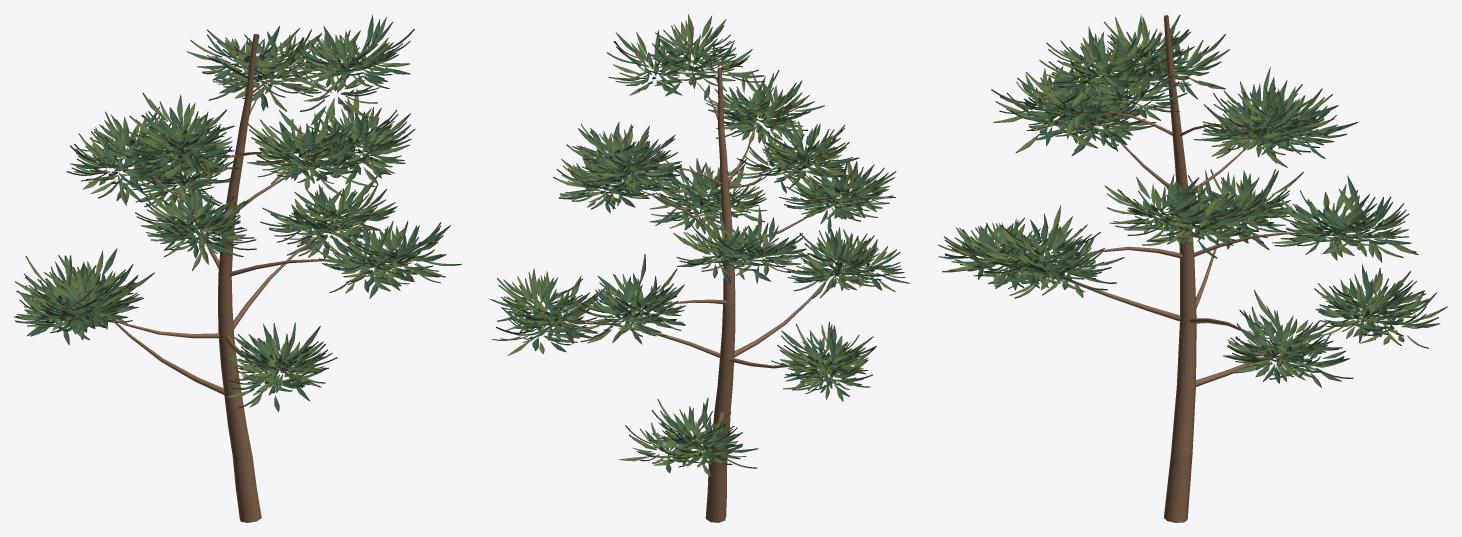
Rendered from Pin_Laricio_2_High.fbx.
3 renders of one model, left to right at view 1: azimuth 30°, elevation 25°; view 2: azimuth 150°, elevation 25°; view 3: azimuth 270°, elevation 25°, orthographic. The views are drawn at different scales.
Visible parts, largest first — view 1: Pin_Laricio_2_High; view 2: Pin_Laricio_2_High; view 3: Pin_Laricio_2_High.
Part boxes in pixels (bbox=[...]): Pin_Laricio_2_High: bbox=[14, 14, 461, 522]; Pin_Laricio_2_High: bbox=[490, 14, 909, 522]; Pin_Laricio_2_High: bbox=[938, 14, 1447, 522].
Bounding box in the file's own units: 735 × 889 × 809.
